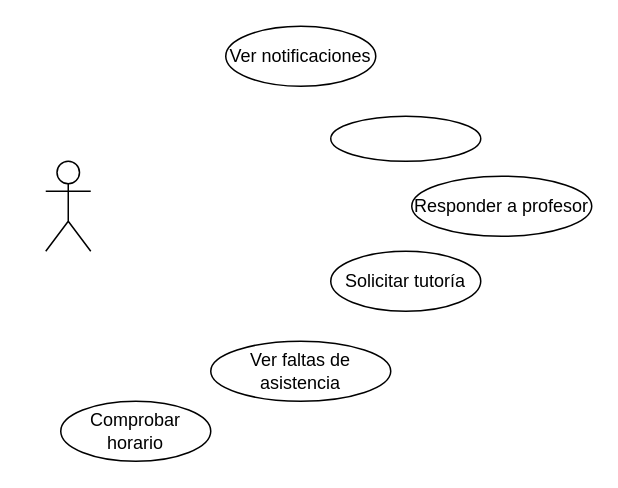
Image size: 618x488. Some labels were removed from this diagram. The shapes that lost their labels are listed below. From the top down, each one's centre as x and y in pixels, then its label:
At (405,138): "Unirse a grupo".
At (67,205): "Tutor legal".
